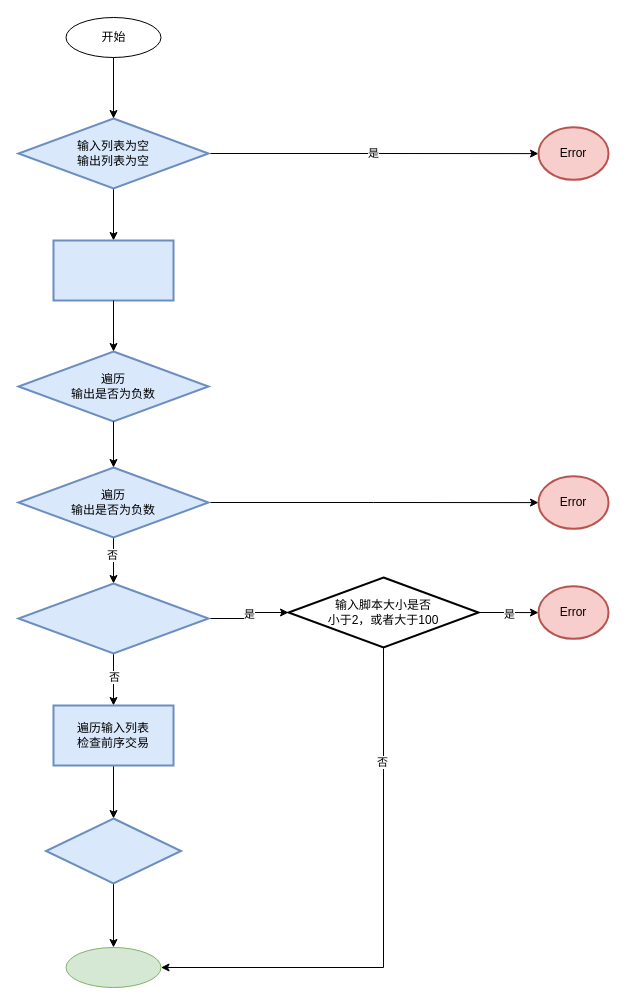
This 626x1005 diagram has some shape labels left out. Here are the shapes that lost their labels. From the top down, the centre of each, then its label:
At point 113,270: "遍历输出列表 检查金额".
At point 113,618: "是否为CoinBase交易".
At point 113,850: "前序交易不为空".
At point 113,967: "Success".
